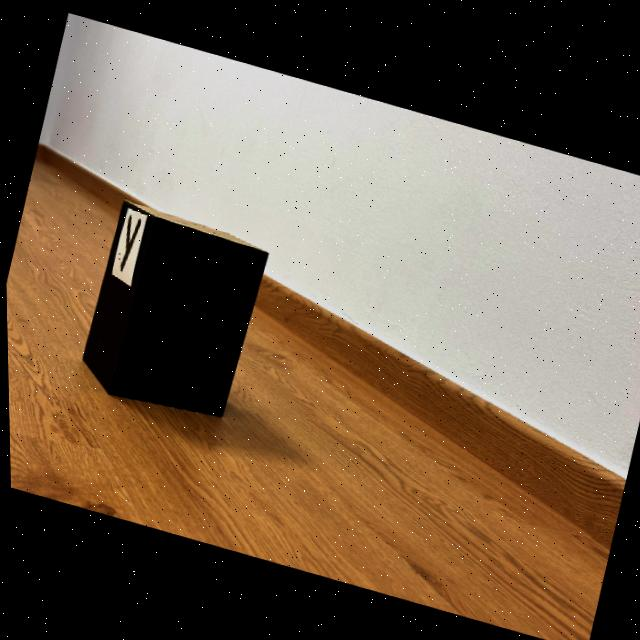Y: (118, 214, 139, 269)
